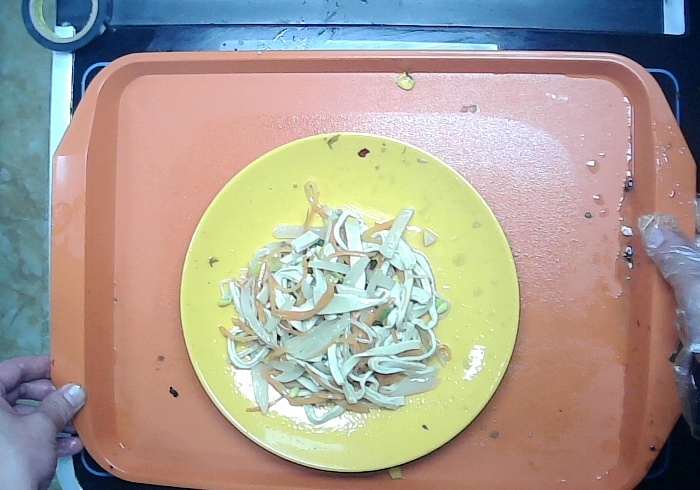HZYJPL-Huang_Se_Yuan_Pan: (179, 131, 523, 475)
